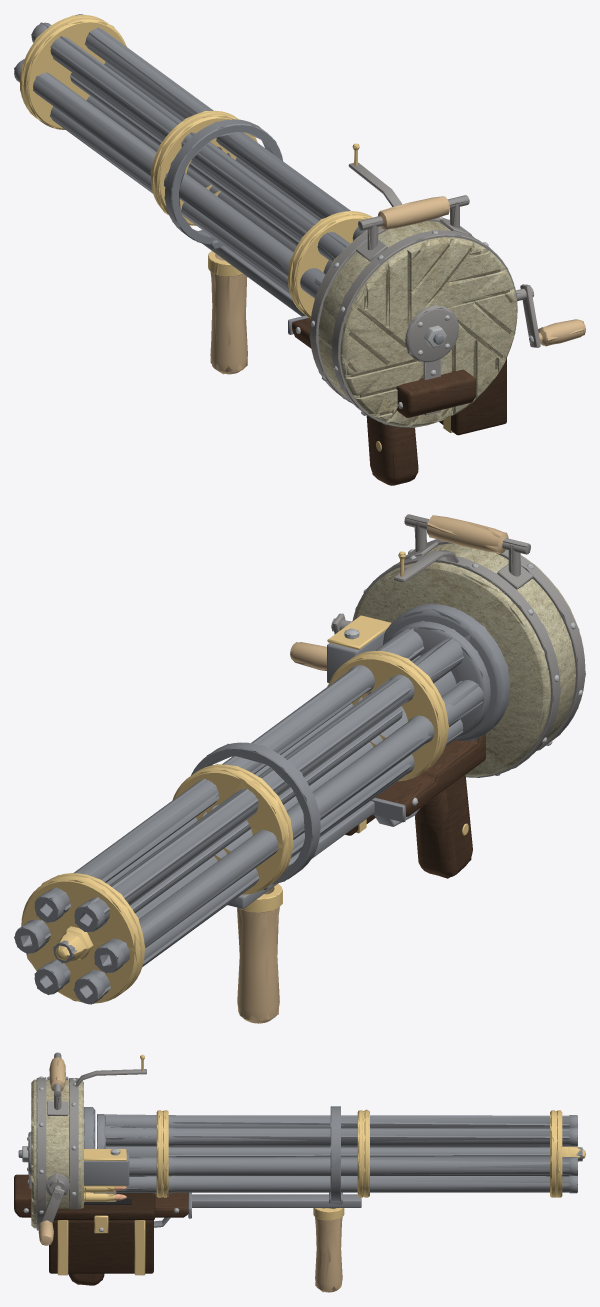
File: mulin.glb
3 renders of one model, top to bottom at view 1: azimuth 30°, elevation 25°; view 2: azimuth 150°, elevation 25°; view 3: azimuth 270°, elevation 25°, orthographic. The views are drawn at different scales.
Parts seen in each view (by area): view 1: body, spinner, far, mag; view 2: spinner, body, far; view 3: far, spinner, body, mag.
Part boxes in pixels (x1=…): body: x1=165, y1=119, x2=585, y2=485; spinner: x1=14, y1=14, x2=372, y2=318; far: x1=14, y1=15, x2=584, y2=485; mag: x1=439, y1=358, x2=506, y2=435; spinner: x1=15, y1=621, x2=490, y2=1004; body: x1=191, y1=514, x2=585, y2=1023; far: x1=14, y1=515, x2=585, y2=1023; far: x1=14, y1=1053, x2=585, y2=1292; spinner: x1=97, y1=1110, x2=585, y2=1197; body: x1=14, y1=1052, x2=361, y2=1292; mag: x1=49, y1=1186, x2=155, y2=1275.
Bounding box in the file's own units: 0.2456 × 0.2971 × 0.654.
Materials: 12 (4 with a texture image).
